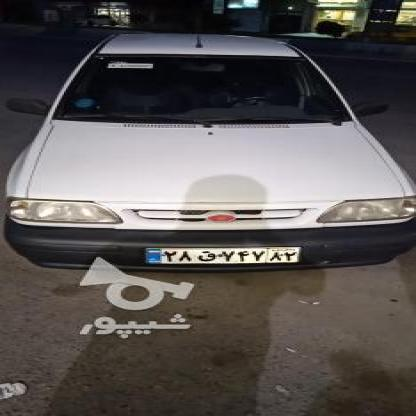licence: (144, 245, 299, 263)
